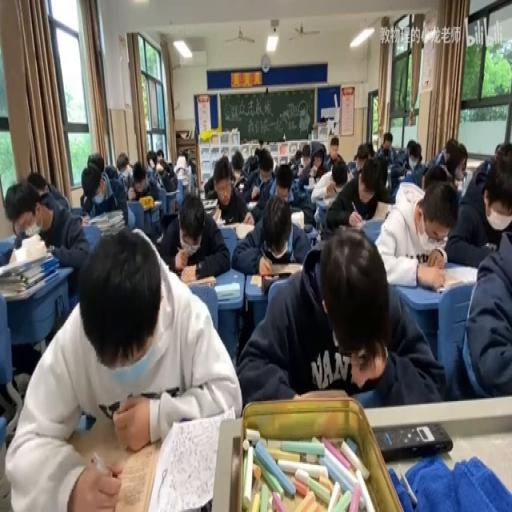calculator: (110, 438, 158, 512), (428, 264, 478, 292), (219, 219, 254, 238), (262, 260, 302, 276), (179, 267, 215, 283), (362, 219, 384, 243), (74, 410, 96, 432), (214, 282, 240, 300), (369, 199, 390, 219), (138, 195, 162, 209), (290, 209, 304, 229), (317, 194, 337, 208), (201, 196, 217, 209), (212, 206, 222, 222), (250, 273, 262, 286), (176, 175, 189, 183), (80, 214, 90, 224), (246, 201, 258, 209), (198, 189, 206, 199), (156, 233, 163, 243), (387, 165, 393, 172), (397, 174, 404, 179)
paper: (10, 226, 239, 508), (238, 224, 440, 410), (4, 175, 90, 290), (375, 176, 455, 286), (445, 146, 512, 267), (230, 190, 313, 274), (158, 192, 230, 279), (325, 154, 392, 234), (81, 158, 129, 232), (240, 148, 272, 212), (425, 137, 464, 189), (393, 138, 425, 192), (203, 151, 236, 199), (125, 160, 157, 204), (154, 151, 178, 192), (322, 138, 343, 173), (374, 132, 394, 168), (26, 170, 50, 196), (275, 172, 292, 202), (295, 160, 312, 188), (186, 155, 198, 191), (230, 150, 244, 180), (86, 152, 104, 174), (310, 139, 324, 161), (174, 154, 188, 174), (494, 141, 510, 158), (146, 149, 158, 171), (116, 155, 128, 174), (346, 159, 358, 178), (104, 164, 118, 180), (365, 140, 375, 160), (291, 148, 302, 165), (252, 148, 261, 165), (406, 145, 414, 164), (300, 145, 309, 161), (458, 158, 466, 173), (156, 149, 163, 162), (256, 138, 263, 149)
person: (374, 420, 451, 458), (260, 274, 290, 294)
